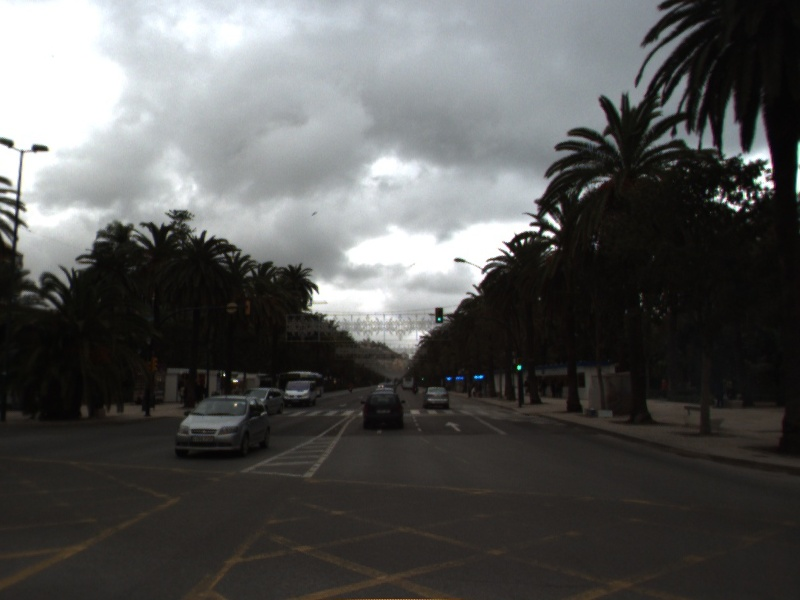STRAIGHT: (443, 419, 464, 433)
